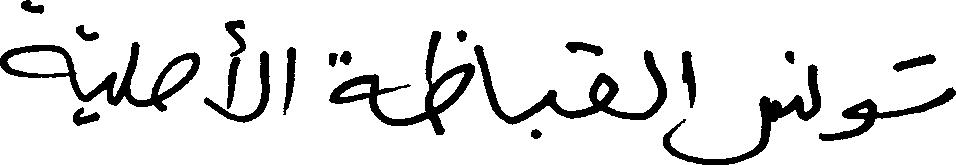X: (697, 46, 799, 164), (206, 15, 268, 127), (0, 0, 72, 92), (425, 25, 474, 139), (328, 46, 376, 121), (152, 47, 199, 116), (590, 39, 617, 121), (645, 45, 665, 153), (476, 40, 500, 123), (844, 94, 876, 143), (682, 46, 695, 164), (123, 37, 137, 111), (283, 42, 294, 119), (809, 59, 819, 143), (939, 82, 955, 110), (545, 85, 556, 117), (106, 67, 113, 109)
